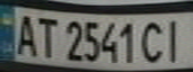1: (115, 19, 139, 64)
2: (60, 16, 84, 62)
4: (100, 18, 121, 63)
5: (78, 17, 103, 63)
A: (12, 10, 39, 57)
C: (139, 17, 169, 64)
I: (160, 16, 193, 64)
T: (33, 14, 60, 58)
